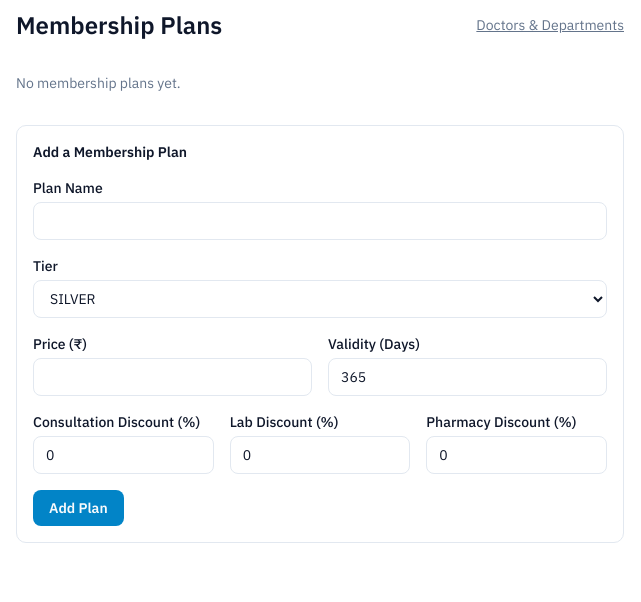
Test case: AdminMembershipsPage › adds a new membership plan
In the field labelled "Plan Name": (320, 221) [33,202,607,240], type "Senior Care Platinum"
Select "PLATINUM" in the dropdown labelled "Tier": (320, 299) [33,280,607,318]
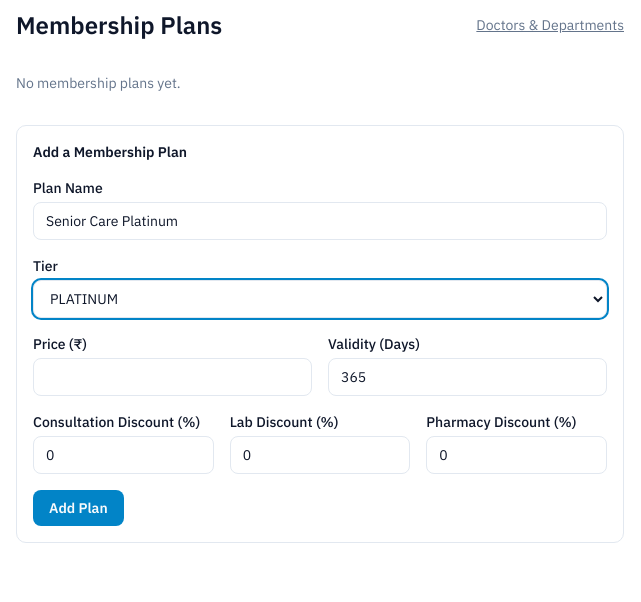
In the number field labelled "Price (₹)": (172, 377) [33,358,312,396], type "4999"
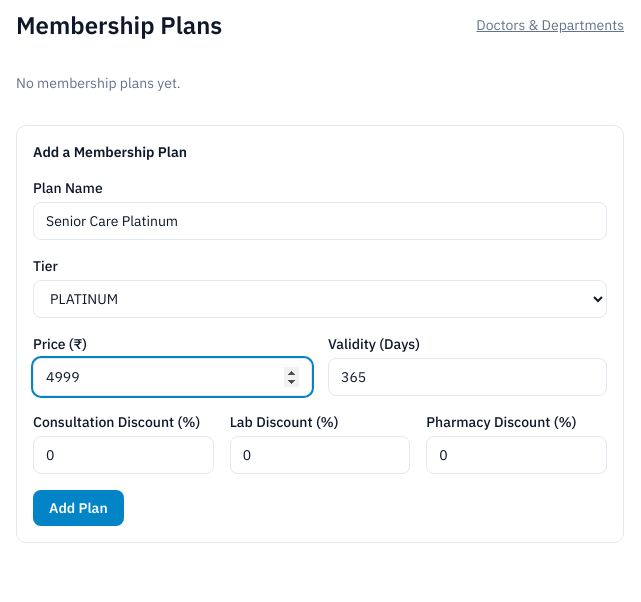
In the number field labelled "Consultation Discount (%)": (123, 455) [33,436,214,474], type "25"
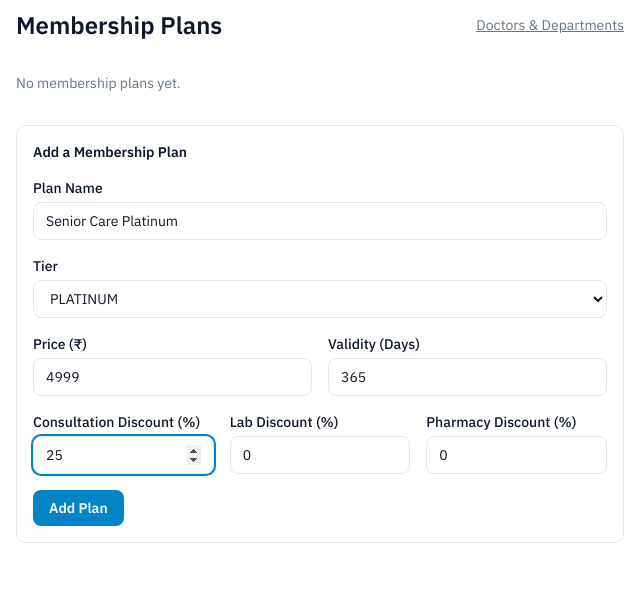
In the number field labelled "Lab Discount (%)": (320, 455) [230,436,410,474], type "20"
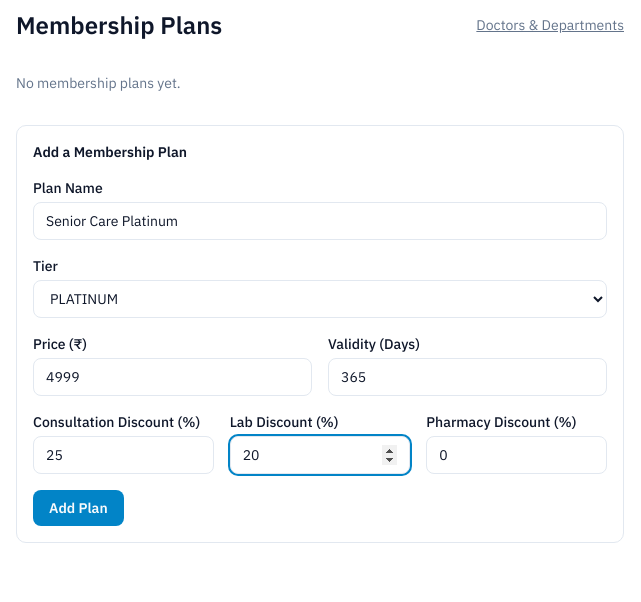
In the number field labelled "Pharmacy Discount (%)": (517, 455) [426,436,607,474], type "15"
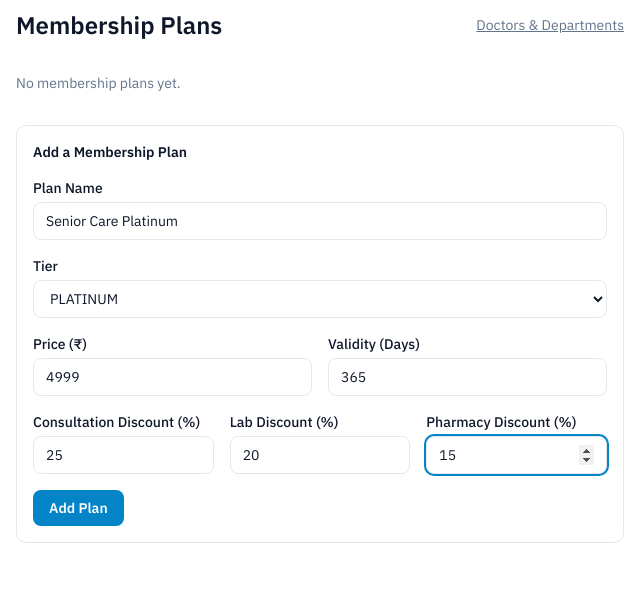
Click the button "Add Plan": (78, 508) [33,490,124,526]
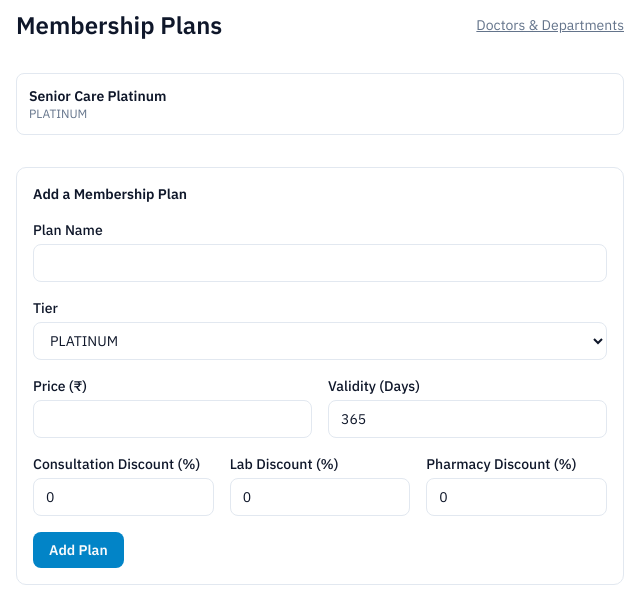
Check: the text "Senior Care Platinum" is shown, box [29,87,166,105]
